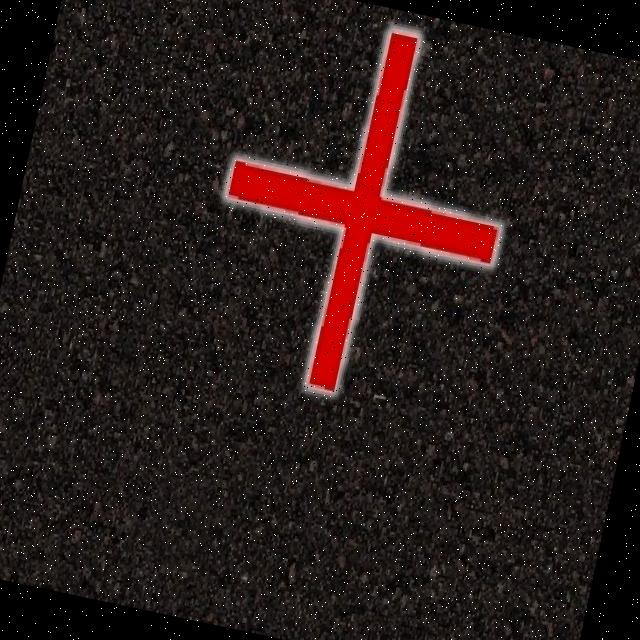x_marker: (190, 2, 534, 416)
